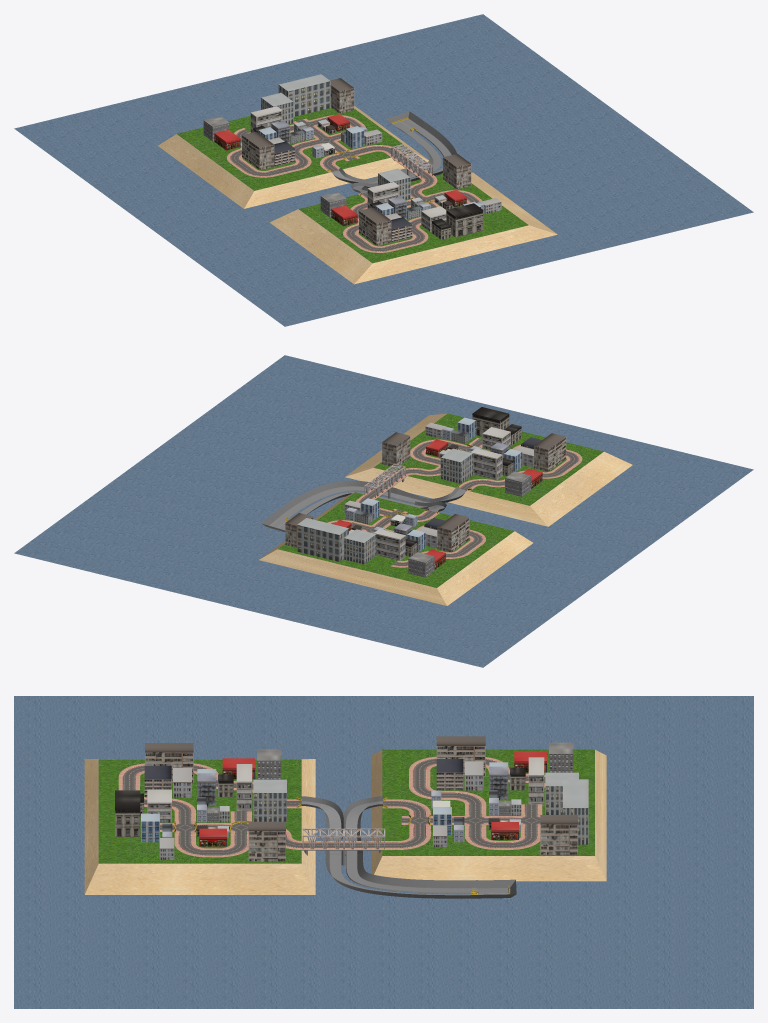
The model's file is Drift-Track-6Daim.fbx.
3 renders of one model, top to bottom at view 1: azimuth 30°, elevation 25°; view 2: azimuth 150°, elevation 25°; view 3: azimuth 270°, elevation 25°, orthographic. The views are drawn at different scales.
Visible parts, largest first — view 1: Water, Buildings, pCube14, pCube12, Rd_sprt, FP_sprt, La_river_RD, Garder_3; view 2: Water, Buildings, pCube14, pCube12, La_river_RD, FP_sprt, Rd_sprt, Garder_3; view 3: Water, Buildings, pCube14, pCube12, La_river_RD, Rd_sprt, FP_sprt, Garder_3.
Boxes of the visible parts, <box> form: Water: <box>14,14,753,326</box>; Buildings: <box>203,74,501,245</box>; pCube14: <box>270,172,557,284</box>; pCube12: <box>158,106,428,208</box>; Rd_sprt: <box>230,117,478,251</box>; FP_sprt: <box>227,115,482,252</box>; La_river_RD: <box>331,111,456,193</box>; Garder_3: <box>391,144,432,178</box>; Water: <box>14,355,753,667</box>; Buildings: <box>285,407,566,577</box>; pCube14: <box>345,413,632,526</box>; pCube12: <box>259,492,532,605</box>; La_river_RD: <box>261,480,467,532</box>; FP_sprt: <box>327,438,582,567</box>; Rd_sprt: <box>331,438,578,565</box>; Garder_3: <box>364,463,405,497</box>; Water: <box>14,696,753,1008</box>; Buildings: <box>115,736,588,861</box>; pCube14: <box>84,759,315,894</box>; pCube12: <box>371,749,606,881</box>; La_river_RD: <box>301,796,516,898</box>; Rd_sprt: <box>123,759,545,854</box>; FP_sprt: <box>118,756,545,857</box>; Garder_3: <box>302,828,385,849</box>.
Size of what is drawn, in the model's own units: 93542 by 7662 by 93542.
